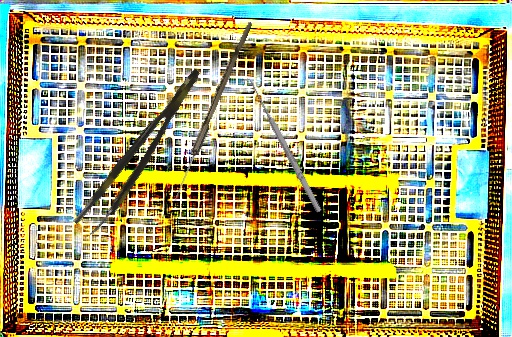Hook Surgical: (238, 73, 325, 218)
Surgical Spoon: (171, 19, 253, 204)
Tissue Forceps: (72, 66, 215, 239)
